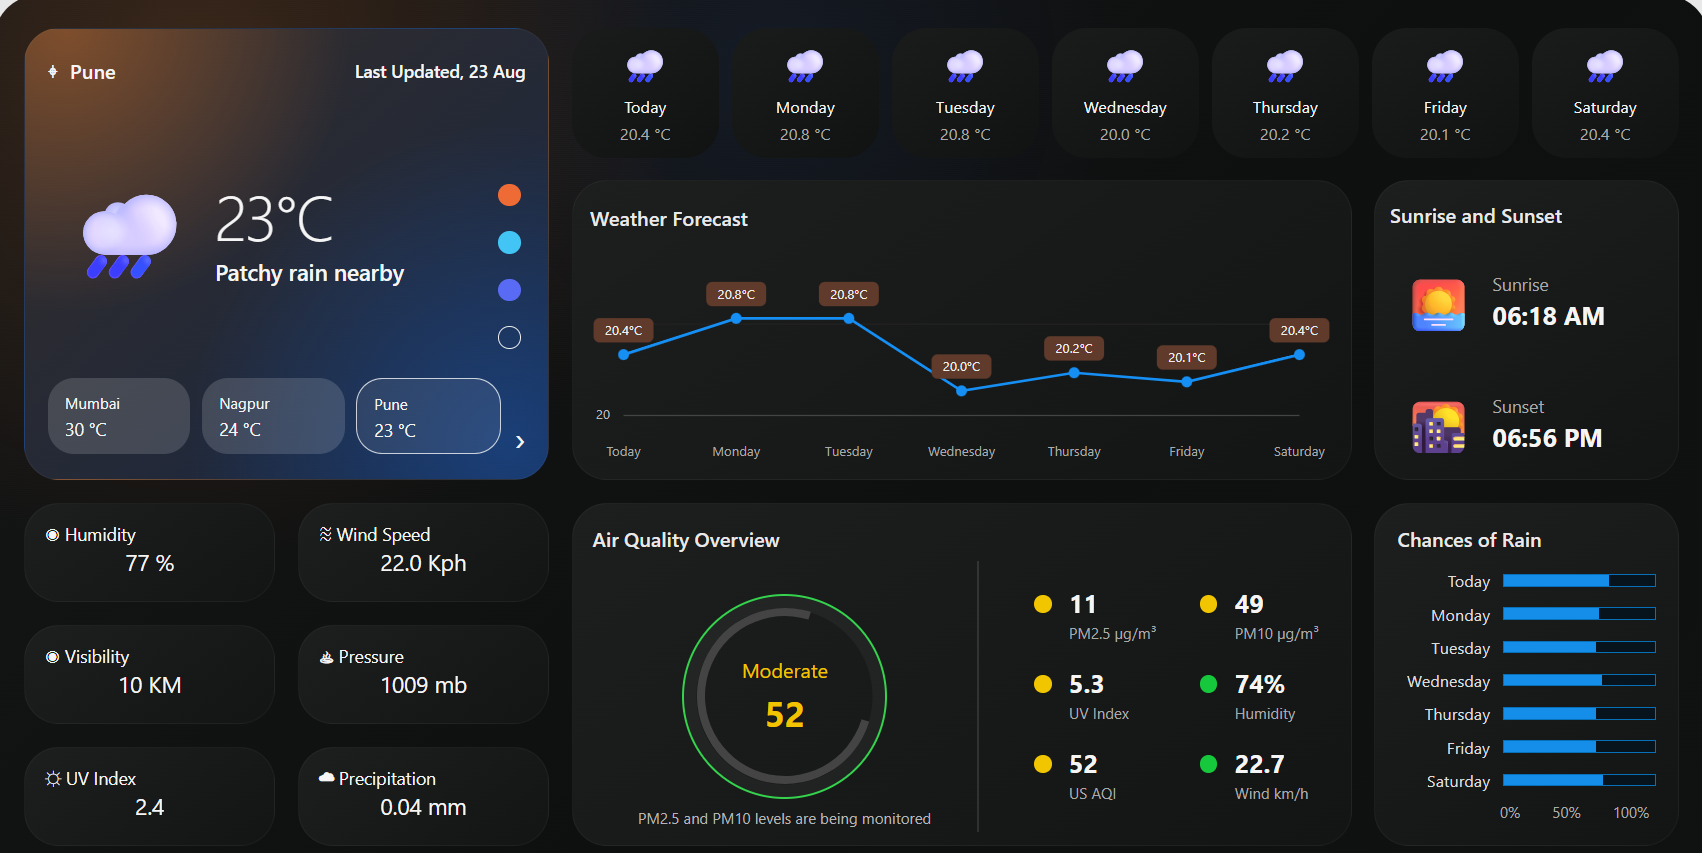

The page's visual inventory and layout, read from the dashboard file:
{"tool":"powerbi","page":{"name":"Page 1","canvas":[1280,720],"ordinal":0},"visuals":[{"type":"donutChart","fields":{"Y":["Sum(current.current.air_quality.pm10)","current.leftvalue"]},"box":[445.2,413.3,240.5,236.7],"z":0},{"type":"shape","box":[462.2,426.5,208.5,204.8],"z":1000},{"type":"advancedSlicerVisual","fields":{"Values":["location.location.name"]},"box":[25.4,276.8,380.2,84.3],"z":2000},{"type":"shape","box":[36.6,157.5,149.5,66.8],"z":3000},{"type":"shape","box":[36.6,224.3,162.2,38.2],"z":4000},{"type":"shape","box":[198.4,45.4,200.3,39.7],"z":5000},{"type":"shape","box":[64.3,45.4,111.5,39.7],"z":6000},{"type":"image","box":[35.9,51,28.3,34],"z":7000},{"type":"cardVisual","fields":{"Data":["Min(current.current.condition.icon)"]},"box":[36.6,98.6,55.7,58.9],"z":8000},{"type":"image","box":[33.4,386.5,30.2,31.8],"z":9000},{"type":"shape","box":[63.6,386.5,122.5,31.8],"z":10000},{"type":"image","box":[227.5,380.2,54.1,42.9],"z":11000},{"type":"image","box":[31.8,485.1,31.8,46.1],"z":12000},{"type":"image","box":[227.5,493.1,47.7,30.2],"z":13000},{"type":"image","box":[232.2,601.3,42.9,44.5],"z":14000},{"type":"image","box":[25.4,601.3,49.3,44.5],"z":15000},{"type":"shape","box":[281.5,386.5,98.6,31.8],"z":16000},{"type":"shape","box":[74.8,491.5,122.5,31.8],"z":17000},{"type":"shape","box":[275.2,485.1,122.5,31.8],"z":18000},{"type":"shape","box":[281.5,601.3,122.5,31.8],"z":19000},{"type":"shape","box":[76.3,607.6,122.5,31.8],"z":20000},{"type":"cardVisual","fields":{"Data":["Sum(current.current.humidity)"]},"box":[81.1,418.3,74.8,44.5],"z":21000},{"type":"cardVisual","fields":{"Data":["_measures.wind_speeds"]},"box":[265.6,408.8,155.9,54.1],"z":22000},{"type":"cardVisual","fields":{"Data":["Sum(current.current.humidity)"]},"box":[81.1,531.3,74.8,44.5],"z":23000},{"type":"cardVisual","fields":{"Data":["Sum(current.current.pressure_in)"]},"box":[281.5,516.9,119.3,44.5],"z":24000},{"type":"cardVisual","fields":{"Data":["Sum(current.current.pressure_in)"]},"box":[275.2,633.1,119.3,44.5],"z":25000},{"type":"cardVisual","fields":{"Data":["Sum(current.current.uv)"]},"box":[81.1,633.1,74.8,44.5],"z":26000},{"type":"advancedSlicerVisual","fields":{"Values":["forecast-day.day_name"]},"box":[439.6,16.9,839.8,103.3],"z":27000},{"type":"lineChart","title":"Chance_of_Rain","fields":{"Y":["Avg(forcast-hours.forecast.forecastday.hour.temp_f)"],"Category":["location.location.name","forcast-hours.forecast.forecastday.hour.chance_of_rain"]},"box":[460.3,148.4,535.4,189.7],"z":28000},{"type":"map","fields":{"Size":["Sum(forcast-hours.forecast.forecastday.hour.cloud)"],"Category":["location.location.name"]},"box":[1035.2,385.1,208.5,293.1],"z":29000},{"type":"cardVisual","fields":{"Data":["Sum(current.current.air_quality.o3)"]},"box":[860.4,396.4,135.3,71.4],"z":30000},{"type":"shape","box":[460.3,390.8,154.1,31.9],"z":31000},{"type":"cardVisual","fields":{"Data":["Sum(current.current.air_quality.no2)"]},"box":[864.2,486.6,135.3,75.1],"z":32000},{"type":"cardVisual","fields":{"Data":["Sum(current.current.air_quality.pm2_5)"]},"box":[860.4,586.1,135.3,77],"z":33000},{"type":"cardVisual","fields":{"Data":["Sum(current.current.air_quality.pm10)"]},"box":[728.9,398.3,135.3,69.5],"z":34000},{"type":"cardVisual","fields":{"Data":["Sum(current.current.air_quality.so2)"]},"box":[725.2,496,135.3,73.3],"z":35000},{"type":"cardVisual","fields":{"Data":["Sum(current.current.air_quality.co)"]},"box":[738.3,601.2,135.3,77],"z":36000},{"type":"shape","box":[745.8,418.9,15,15],"z":37000},{"type":"shape","box":[745.8,514.8,15,15],"z":38000},{"type":"shape","box":[886.7,420.8,15,15],"z":39000},{"type":"shape","box":[886.7,509.1,15,15],"z":40000},{"type":"shape","box":[879.2,616.2,15,15],"z":41000},{"type":"shape","box":[753.4,618.1,15,15],"z":42000},{"type":"shape","box":[625.6,411.4,199.1,242.4],"z":43000},{"type":"cardVisual","fields":{"Data":["Sum(current.current.air_quality.pm10)"]},"box":[516.6,494.1,109,75.1],"z":44000},{"type":"cardVisual","fields":{"Data":["current.wind_speed","Min(current.location.name)","Min(current.location.region)"]},"box":[1035.2,131.5,221.7,229.2],"z":45000}]}

Visuals, with their boxes on the page's 1280x720 design canvas (x1, y1, x2, y2). These are canvas units, not pixel positions in the 1702x853 screenshot, which may show the page scaled, cropped or inside an application window:
donutChart - Sum(current.current.air_quality.pm10) x current.leftvalue: bbox=(445, 413, 686, 650)
shape: bbox=(462, 426, 671, 631)
advancedSlicerVisual - location.location.name: bbox=(25, 277, 406, 361)
shape: bbox=(37, 158, 186, 224)
shape: bbox=(37, 224, 199, 262)
shape: bbox=(198, 45, 399, 85)
shape: bbox=(64, 45, 176, 85)
image: bbox=(36, 51, 64, 85)
cardVisual - Min(current.current.condition.icon): bbox=(37, 99, 92, 158)
image: bbox=(33, 386, 64, 418)
shape: bbox=(64, 386, 186, 418)
image: bbox=(228, 380, 282, 423)
image: bbox=(32, 485, 64, 531)
image: bbox=(228, 493, 275, 523)
image: bbox=(232, 601, 275, 646)
image: bbox=(25, 601, 75, 646)
shape: bbox=(282, 386, 380, 418)
shape: bbox=(75, 492, 197, 523)
shape: bbox=(275, 485, 398, 517)
shape: bbox=(282, 601, 404, 633)
shape: bbox=(76, 608, 199, 639)
cardVisual - Sum(current.current.humidity): bbox=(81, 418, 156, 463)
cardVisual - _measures.wind_speeds: bbox=(266, 409, 422, 463)
cardVisual - Sum(current.current.humidity): bbox=(81, 531, 156, 576)
cardVisual - Sum(current.current.pressure_in): bbox=(282, 517, 401, 561)
cardVisual - Sum(current.current.pressure_in): bbox=(275, 633, 394, 678)
cardVisual - Sum(current.current.uv): bbox=(81, 633, 156, 678)
advancedSlicerVisual - forecast-day.day_name: bbox=(440, 17, 1279, 120)
"Chance_of_Rain" lineChart: bbox=(460, 148, 996, 338)
map - Sum(forcast-hours.forecast.forecastday.hour.cloud) x location.location.name: bbox=(1035, 385, 1244, 678)
cardVisual - Sum(current.current.air_quality.o3): bbox=(860, 396, 996, 468)
shape: bbox=(460, 391, 614, 423)
cardVisual - Sum(current.current.air_quality.no2): bbox=(864, 487, 1000, 562)
cardVisual - Sum(current.current.air_quality.pm2_5): bbox=(860, 586, 996, 663)
cardVisual - Sum(current.current.air_quality.pm10): bbox=(729, 398, 864, 468)
cardVisual - Sum(current.current.air_quality.so2): bbox=(725, 496, 860, 569)
cardVisual - Sum(current.current.air_quality.co): bbox=(738, 601, 874, 678)
shape: bbox=(746, 419, 761, 434)
shape: bbox=(746, 515, 761, 530)
shape: bbox=(887, 421, 902, 436)
shape: bbox=(887, 509, 902, 524)
shape: bbox=(879, 616, 894, 631)
shape: bbox=(753, 618, 768, 633)
shape: bbox=(626, 411, 825, 654)
cardVisual - Sum(current.current.air_quality.pm10): bbox=(517, 494, 626, 569)
cardVisual - current.wind_speed x Min(current.location.name): bbox=(1035, 132, 1257, 361)
